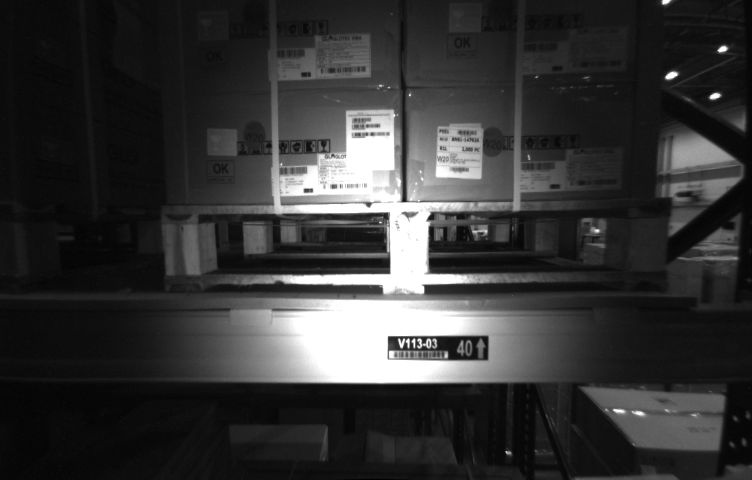True Barcode: (438, 124, 480, 179)
